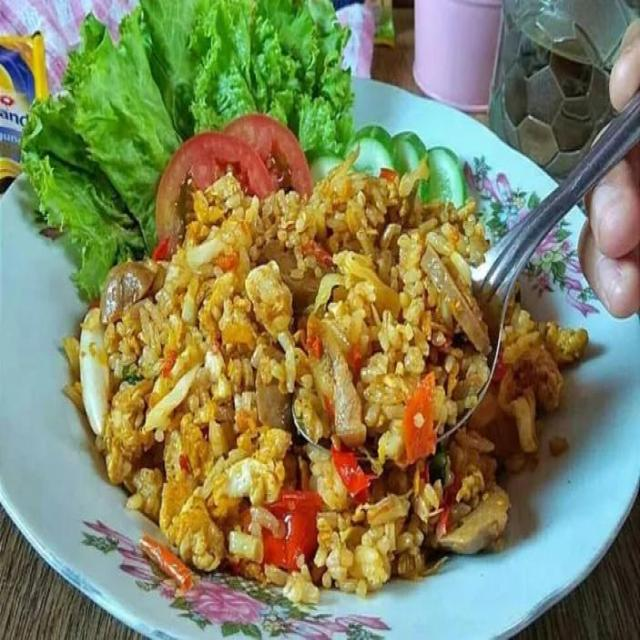Nasi Goreng: (66, 186, 579, 550)
